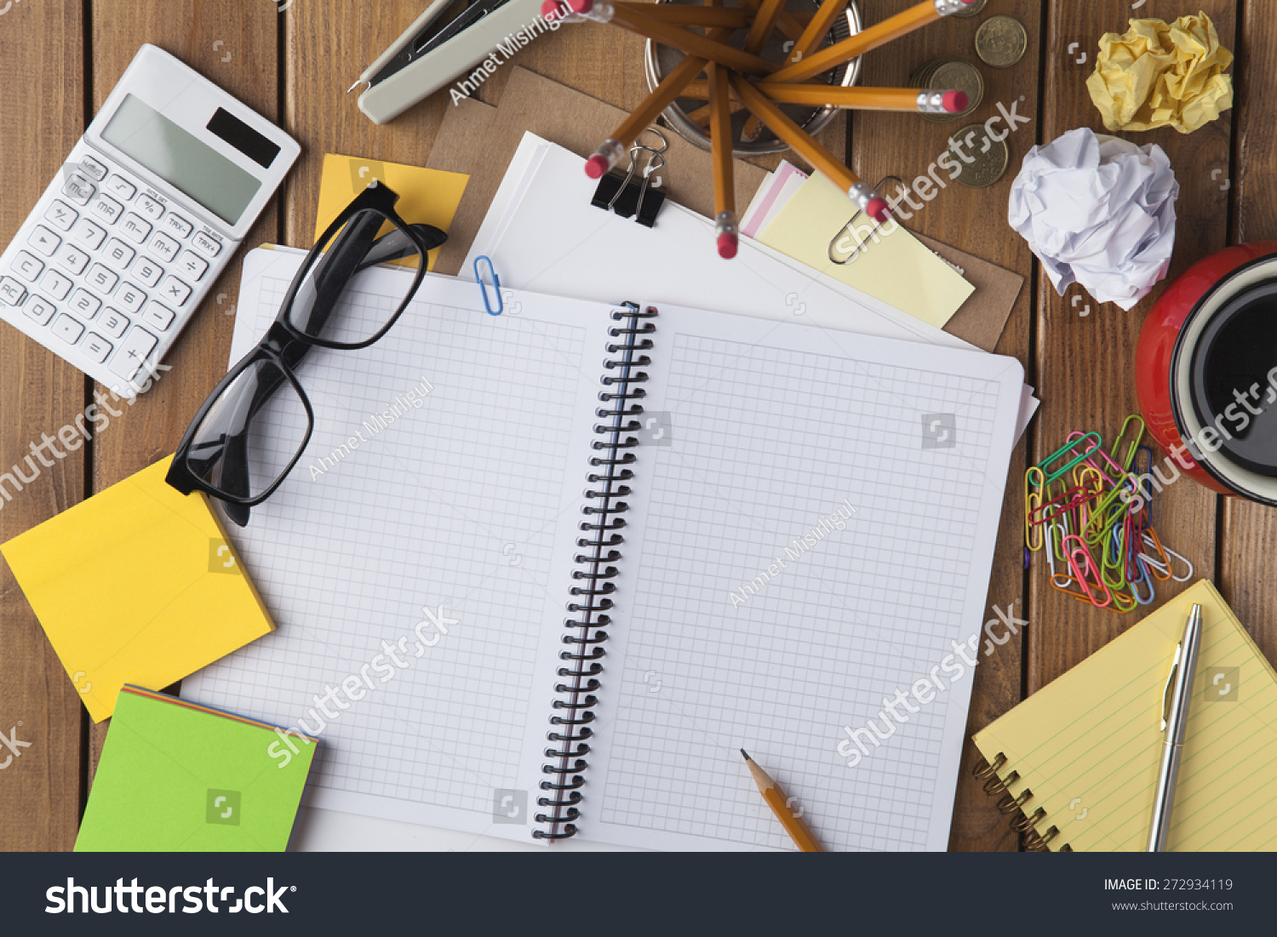not a gesture sign: (79, 7, 244, 393)
